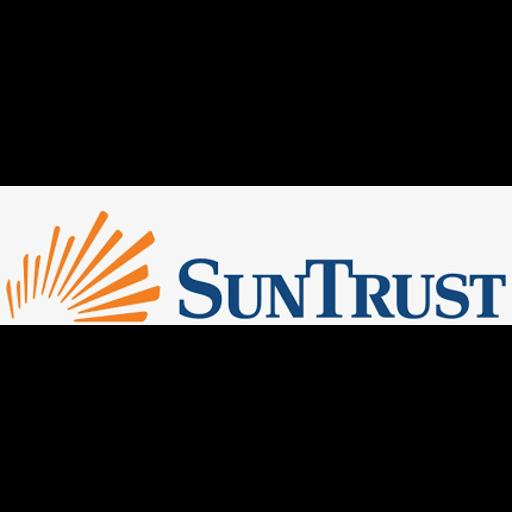SunTrust Bank: (0, 186, 512, 325)
